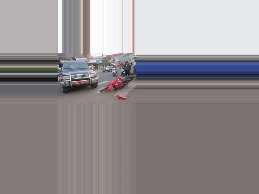plate: (73, 80, 85, 85)
